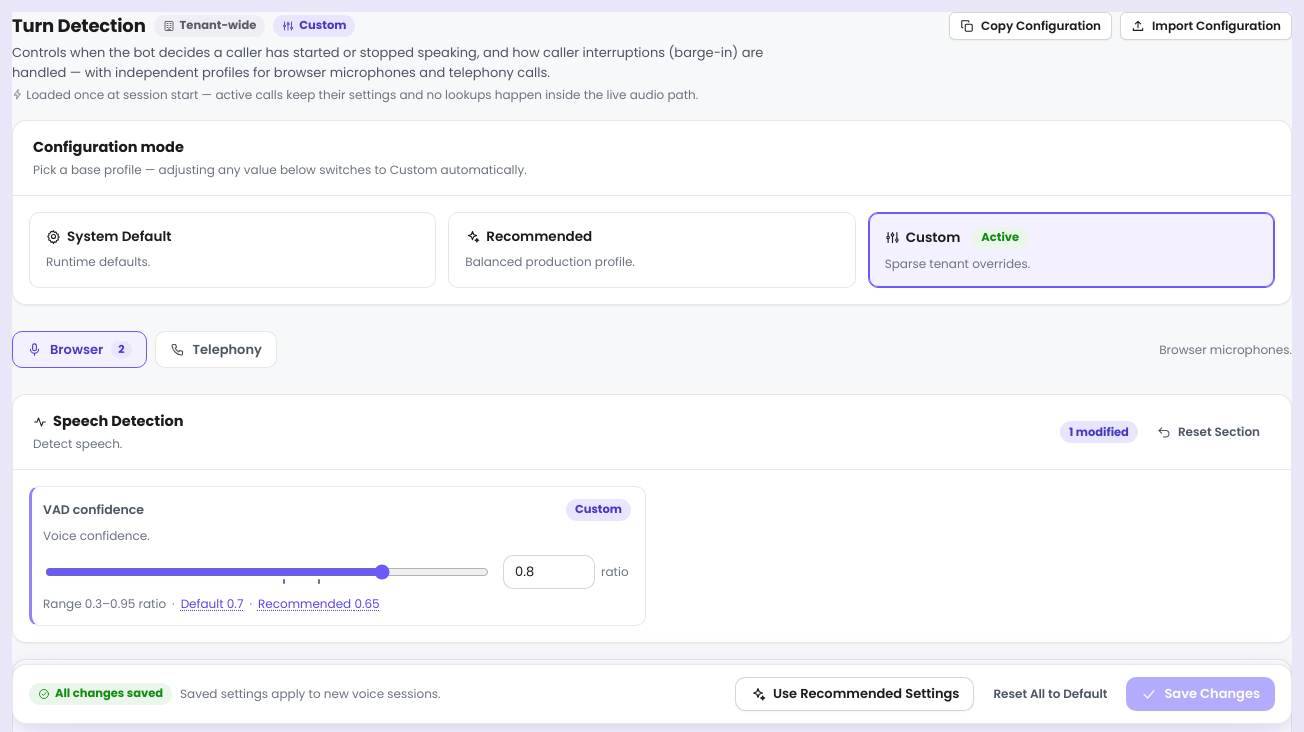
Test: TurnDetectionTab › shows effective values, range, default and recommended per transport
expect the number field named "VAD confidence value" holds "0.8": met, box [503,555,595,589]
expect the text "Range 0.3–0.95 ratio" is shown: met, box [43,595,166,613]
Click the tab "Telephony": [216, 350] box [154,331,277,368]
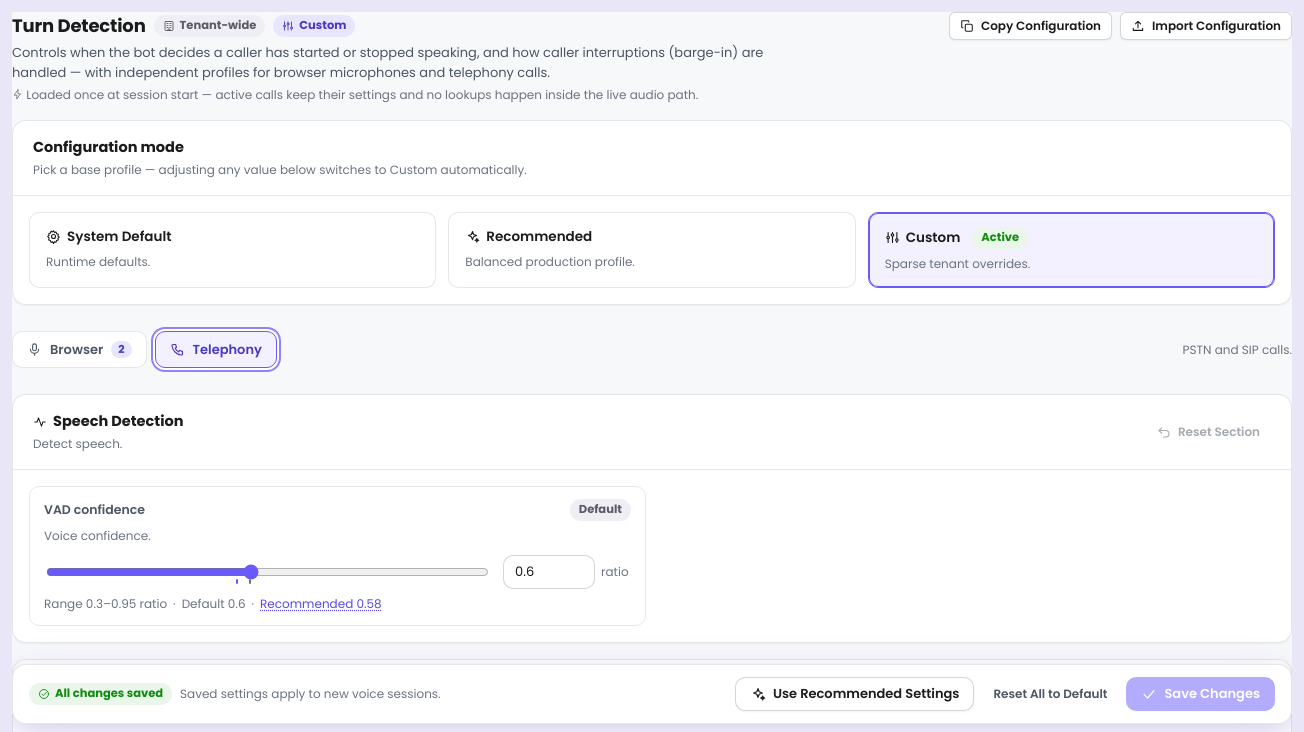
expect the number field named "VAD confidence value" holds "0.6": met, box [503,555,595,589]
expect the button "Default 0.6" is shown: met, box [182,595,246,613]
expect the button "Recommended 0.58" is shown: met, box [260,595,382,613]
